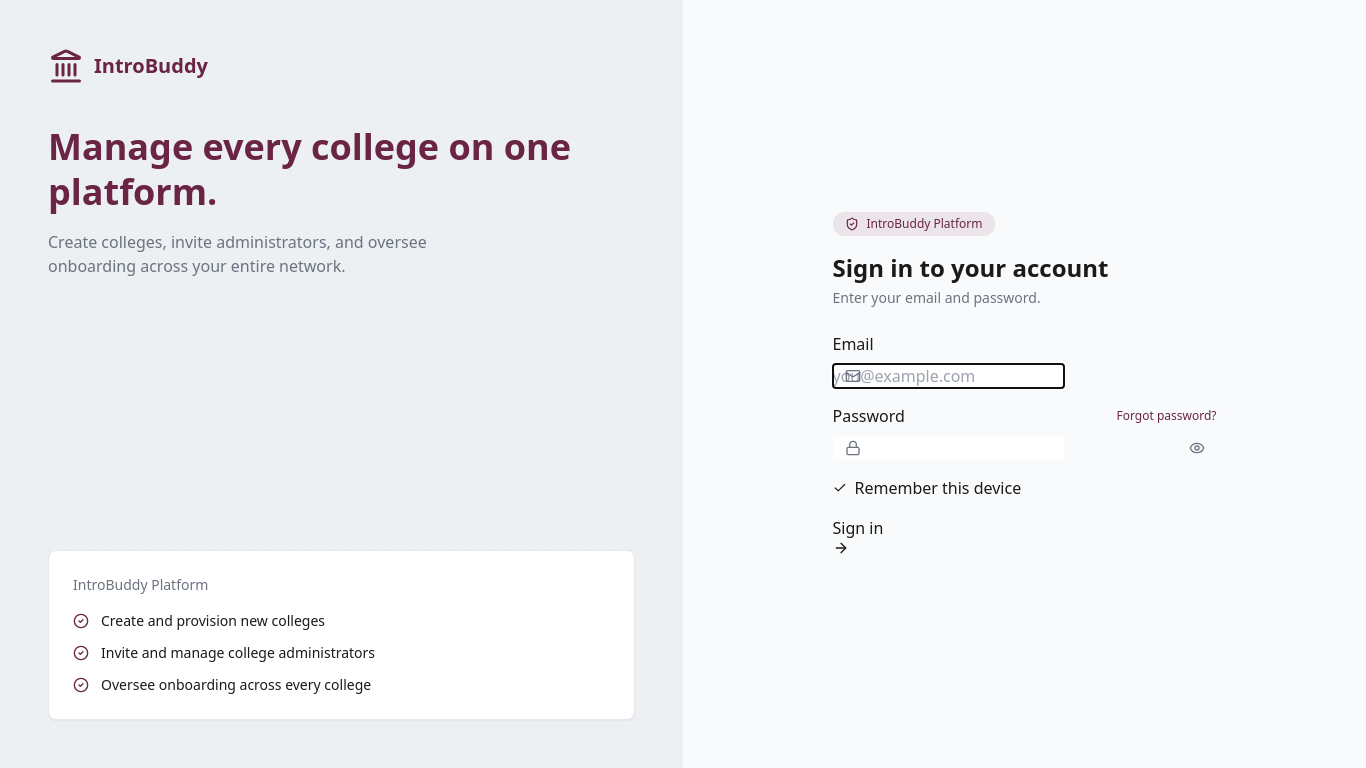
Test: RoleLoginPage › variant="admin" › still signs out and shows a friendly error if a non-super_admin session is resolved
The width and height of the screenshot is (1366, 768).
In the field labelled "Email": (948, 376) [832, 364, 1064, 388], type "admin@example.com"
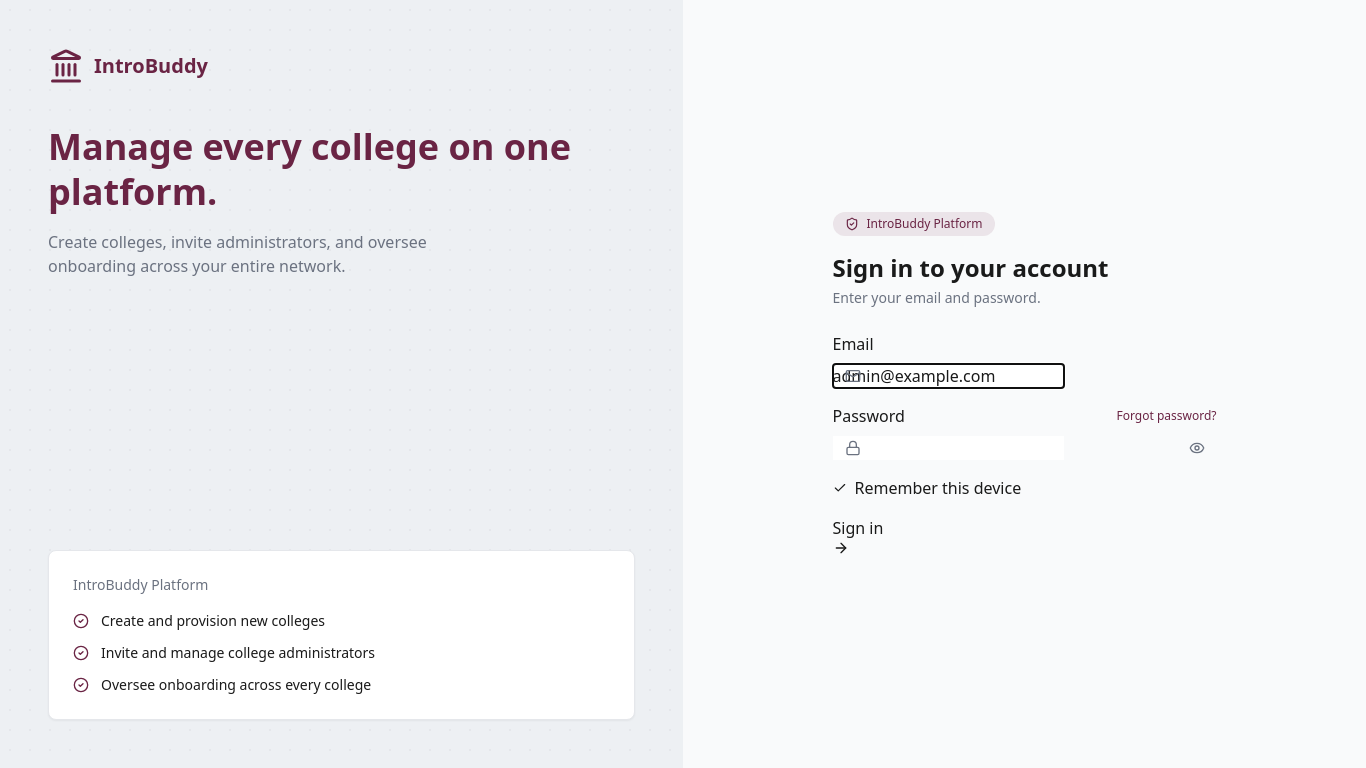
In the password field labelled "Password": (948, 448) [832, 436, 1064, 460], type "Correct-Horse-9"
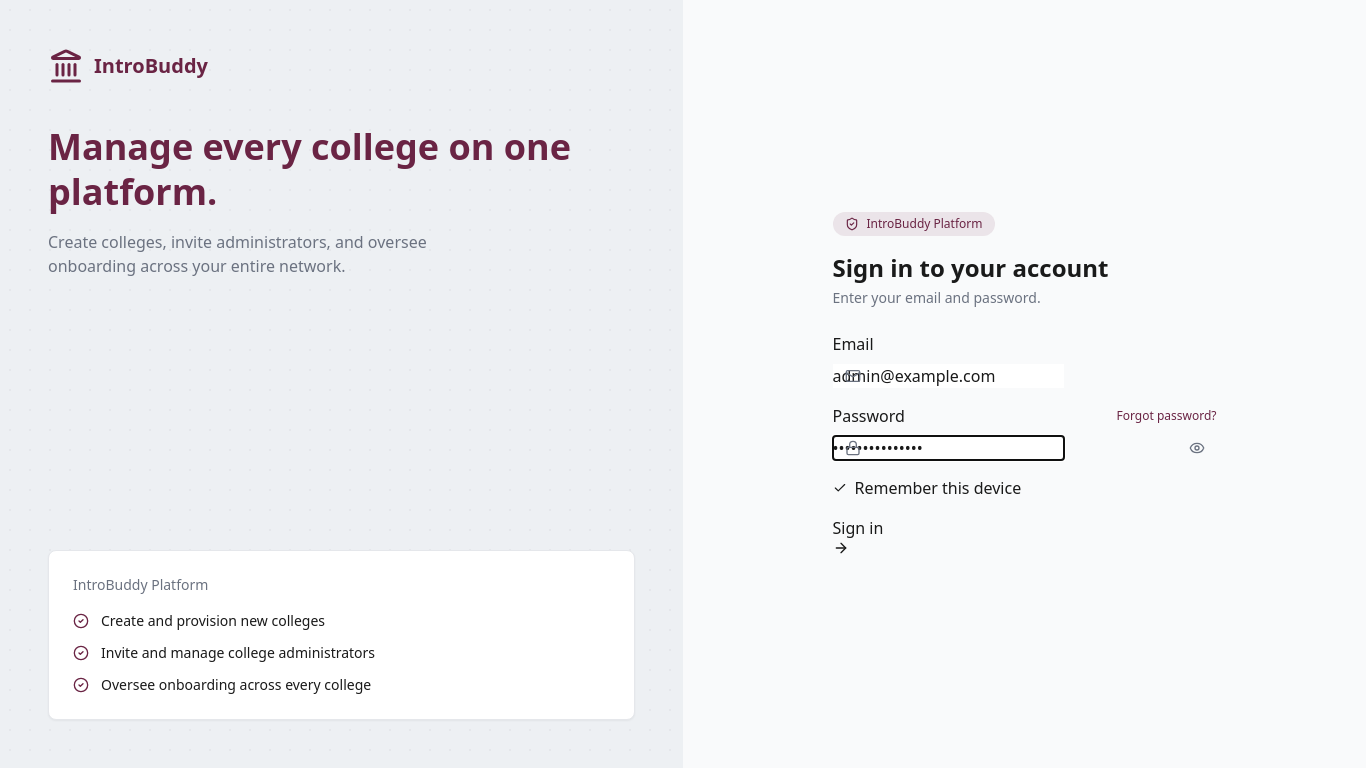
Click the button "Sign in": (858, 536) [832, 516, 883, 556]
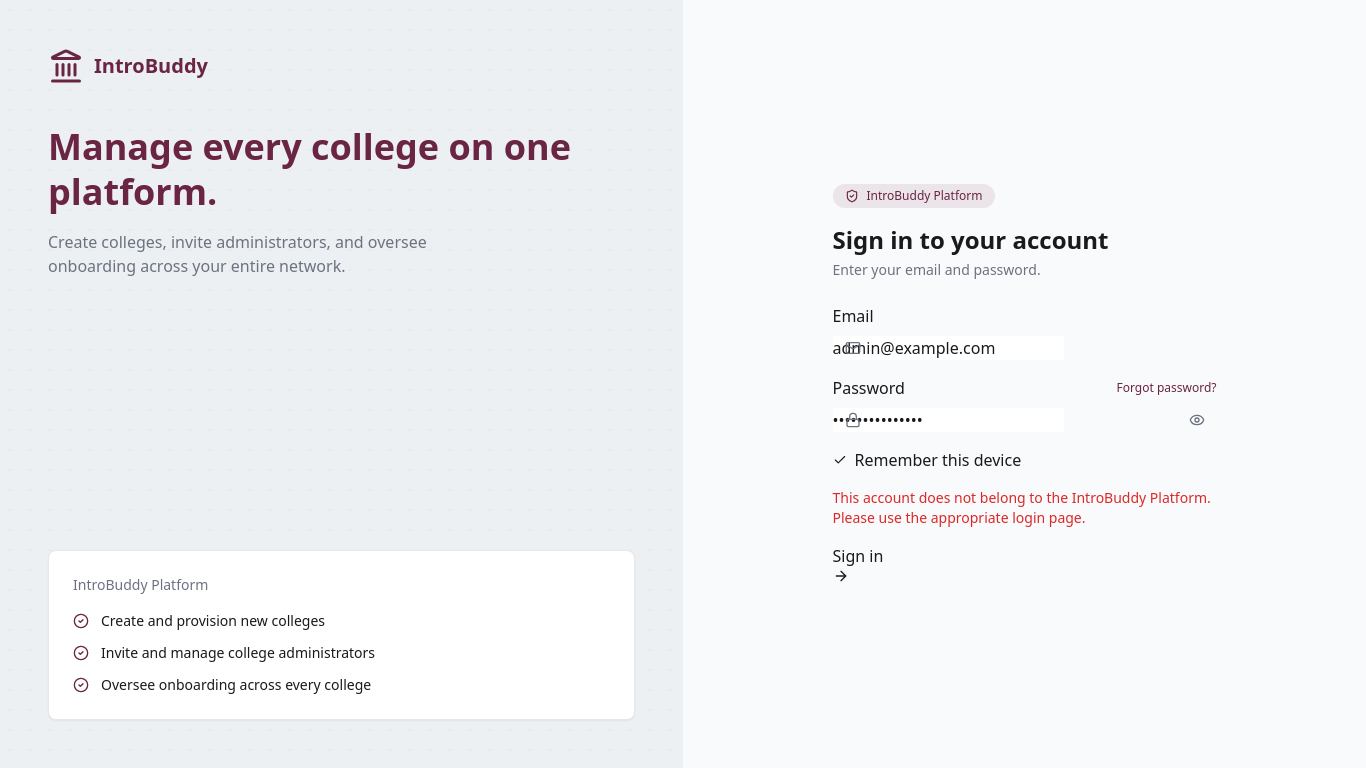
Expected: the text "does not belong to the IntroBuddy Platform" is shown, [832, 488, 1211, 527]
